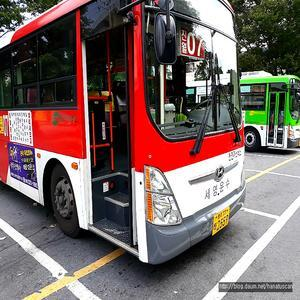07bus: (5, 1, 252, 250)
frontdoor: (70, 8, 146, 256)
